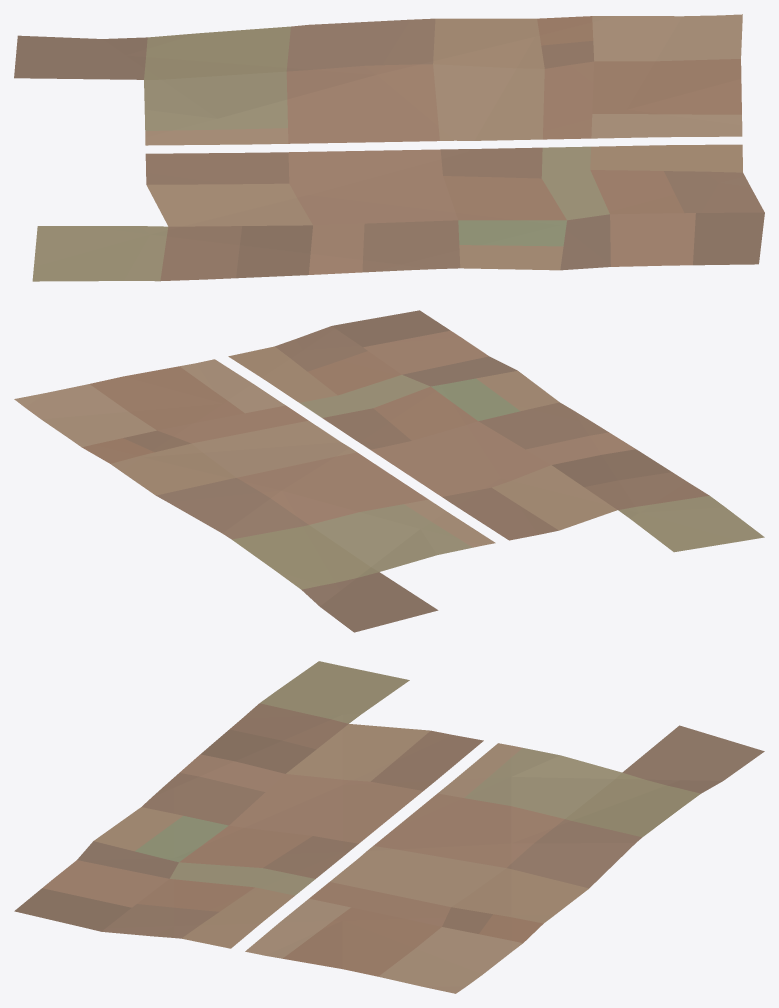
Rendered from farm_13_6_soil.glb.
3 views of the same model, one above another, from view 1: azimuth 30°, elevation 25°; view 2: azimuth 150°, elevation 25°; view 3: azimuth 270°, elevation 25° (orthographic). The views are drawn at different scales.
Visible parts, largest first — view 1: geometry_0; view 2: geometry_0; view 3: geometry_0.
Part boxes in pixels (x1,y1,x2,y2): geometry_0: [14, 14, 764, 281]; geometry_0: [14, 310, 764, 632]; geometry_0: [14, 661, 764, 993].
Bounding box in the file's own units: 395 × 10.28 × 356.
